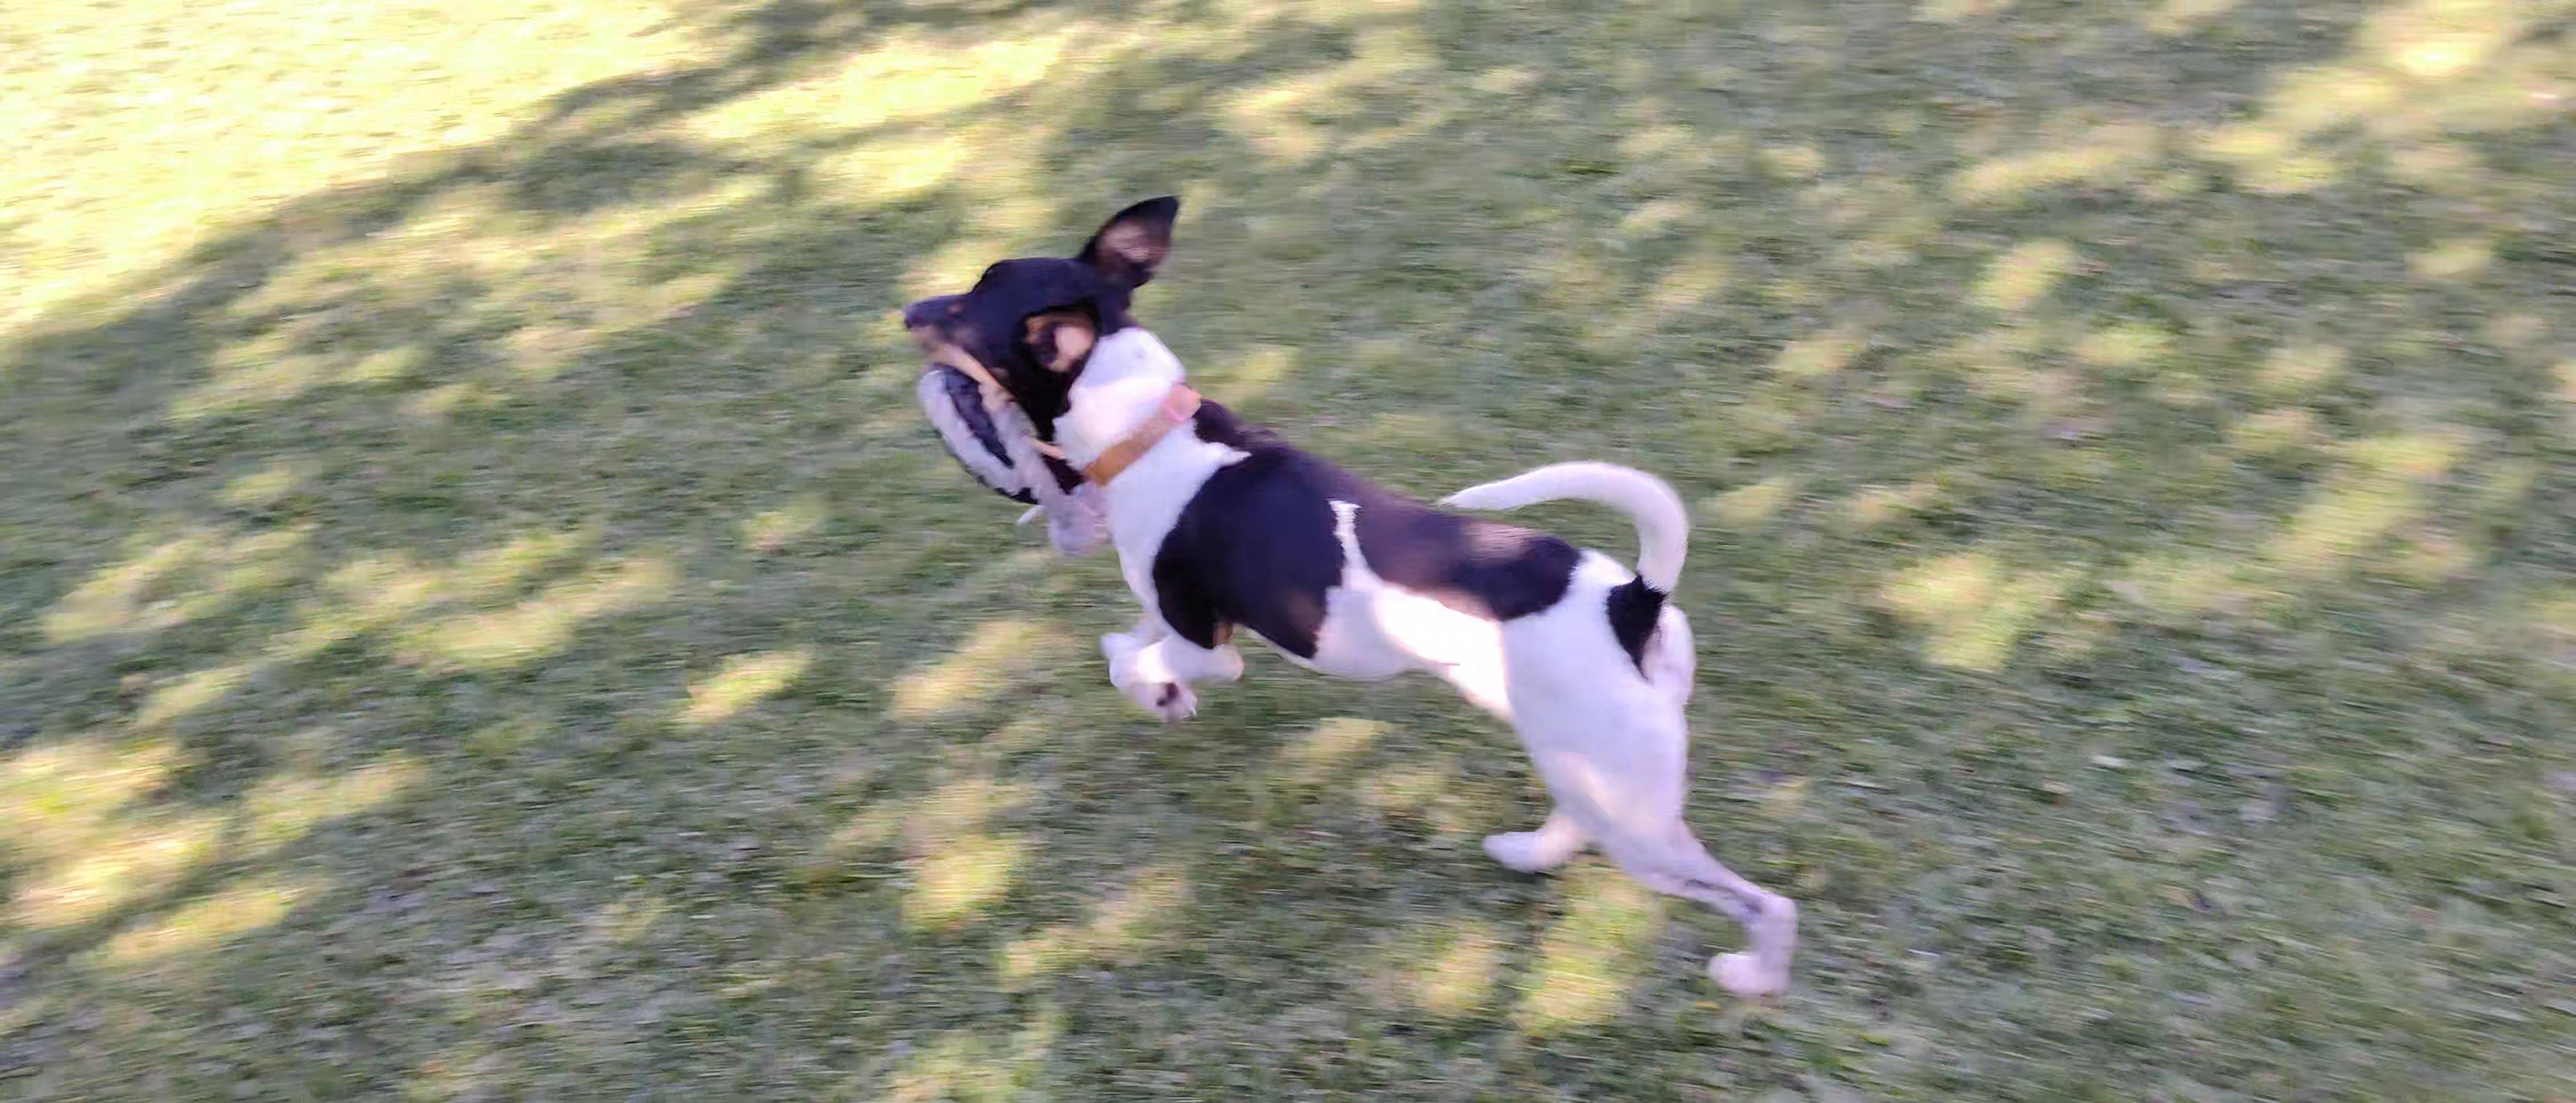Dog: (859, 169, 1838, 1029)
